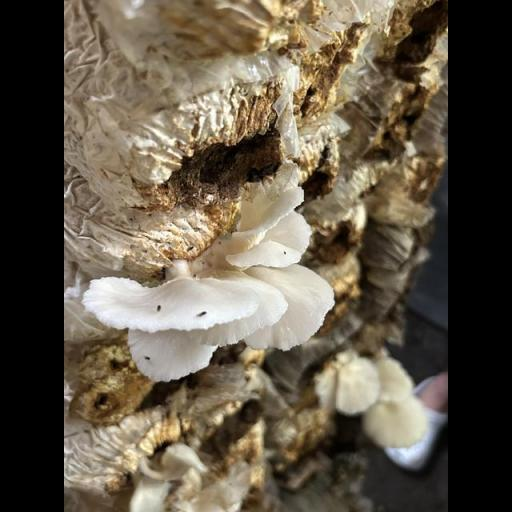White Oyster Mushroom: (86, 185, 333, 380)
